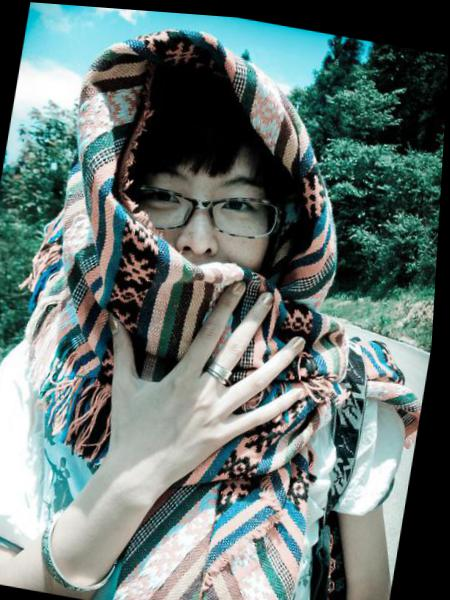WRONG: (99, 136, 295, 333)
